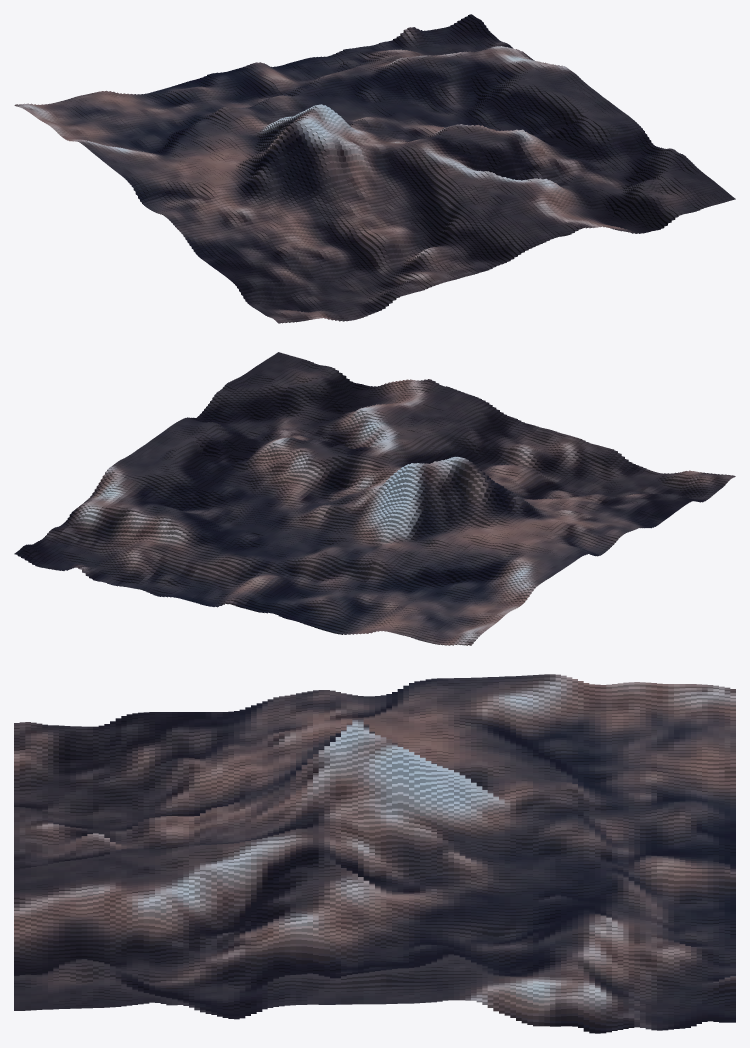
Rendered from chunk-25.glb.
The picture shows the model from 3 angles, top to bottom: view 1: azimuth 30°, elevation 25°; view 2: azimuth 150°, elevation 25°; view 3: azimuth 270°, elevation 25°; orthographic projection. The views are drawn at different scales.
Visible parts, largest first — view 1: Mesh_0.041; view 2: Mesh_0.041; view 3: Mesh_0.041.
Part boxes in pixels (<box>): Mesh_0.041: <box>14,14,735,323</box>; Mesh_0.041: <box>14,352,735,645</box>; Mesh_0.041: <box>14,674,735,1033</box>.
Bounding box in the file's own units: 32000 × 5922 × 32000.
